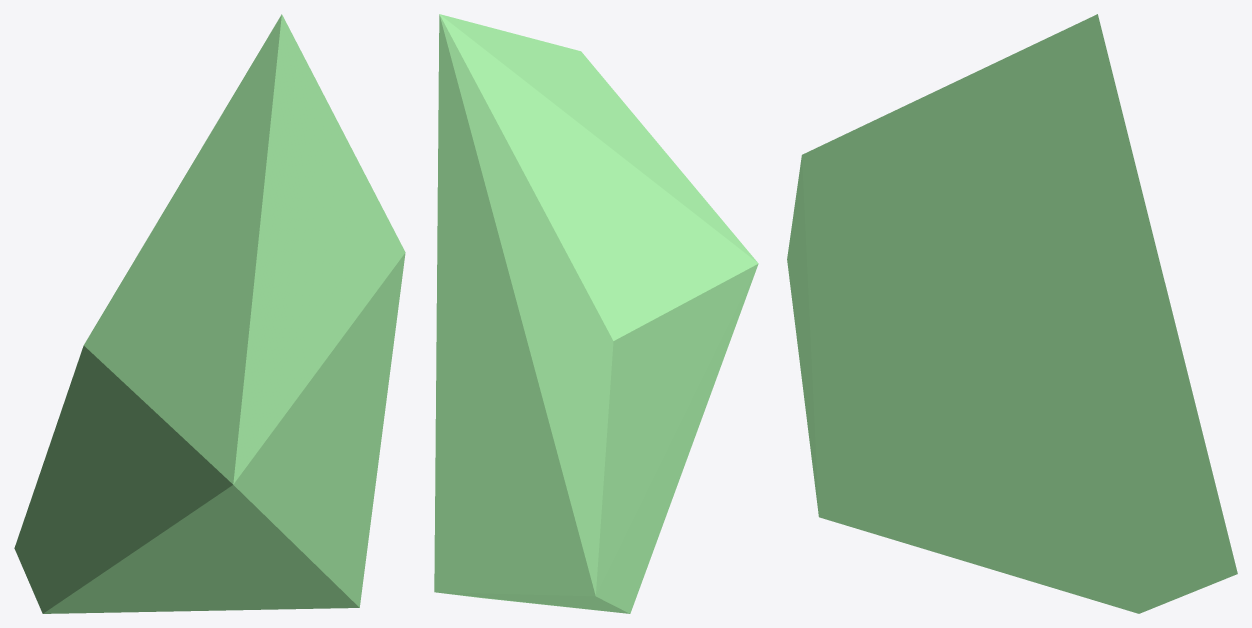
Rendered from UMIRobot_UMIRobot_link_5_convex_coll_38.dae.
3 views of the same model, side by side, from view 1: azimuth 30°, elevation 25°; view 2: azimuth 150°, elevation 25°; view 3: azimuth 270°, elevation 25° (orthographic). The views are drawn at different scales.
Visible parts, largest first — view 1: node; view 2: node; view 3: node.
Part boxes in pixels (<box>): node: <box>14,14,405,613</box>; node: <box>434,14,758,613</box>; node: <box>787,14,1237,613</box>.
Bounding box in the file's own units: 0.00264 × 0.00668 × 0.00431.
